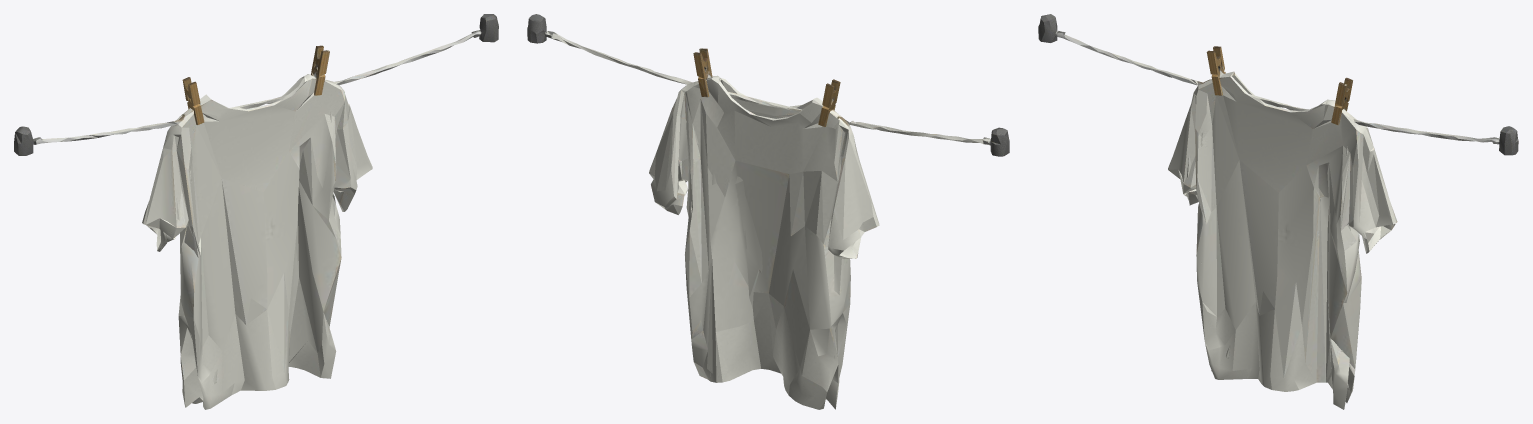
The model's file is laundryLine.glb.
3 views of the same model, side by side, from view 1: azimuth 30°, elevation 25°; view 2: azimuth 150°, elevation 25°; view 3: azimuth 330°, elevation 25° (orthographic).
Bounding box in the file's own units: 1.9 × 1.24 × 0.2106.
1 material, 1 textured.
